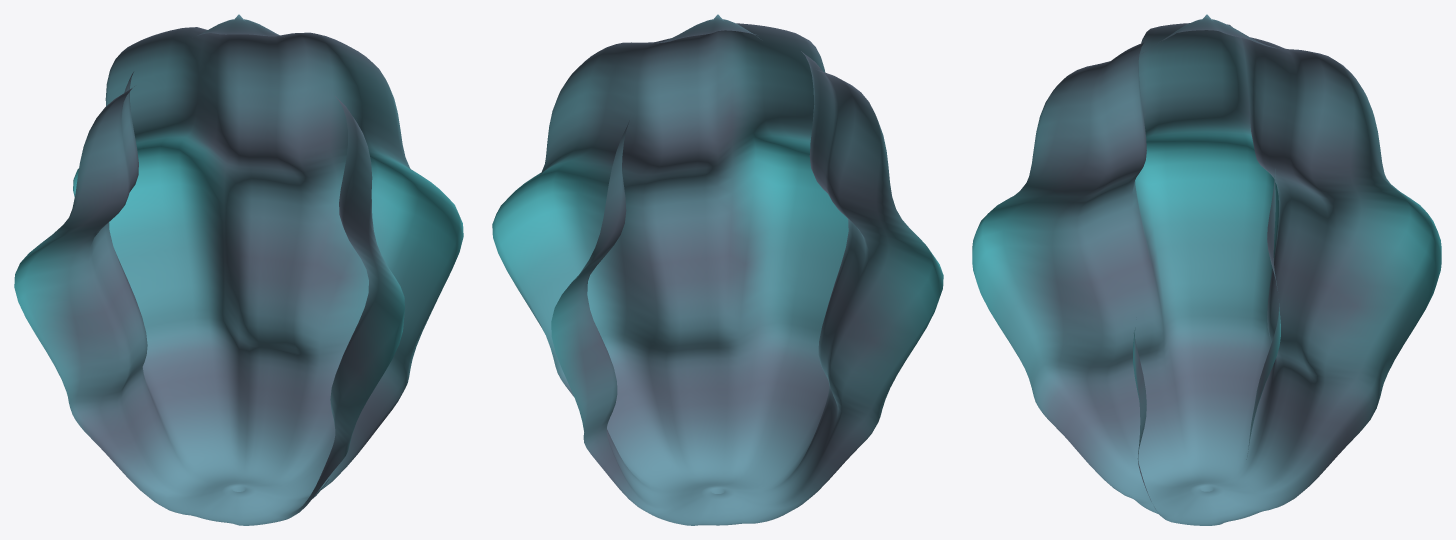
File: synapse_hi3d_staccs_mecha_cube.glb
The picture shows the model from 3 angles, left to right: view 1: azimuth 30°, elevation 25°; view 2: azimuth 150°, elevation 25°; view 3: azimuth 270°, elevation 25°; orthographic projection.
Parts seen in each view (by area): view 1: TRELLIS2_OVoxel_Asset; view 2: TRELLIS2_OVoxel_Asset; view 3: TRELLIS2_OVoxel_Asset.
Part boxes in pixels (<box>): TRELLIS2_OVoxel_Asset: <box>14,14,463,525</box>; TRELLIS2_OVoxel_Asset: <box>492,14,943,525</box>; TRELLIS2_OVoxel_Asset: <box>972,14,1441,525</box>.
Bounding box in the file's own units: 1.5 × 1.7 × 1.5.
